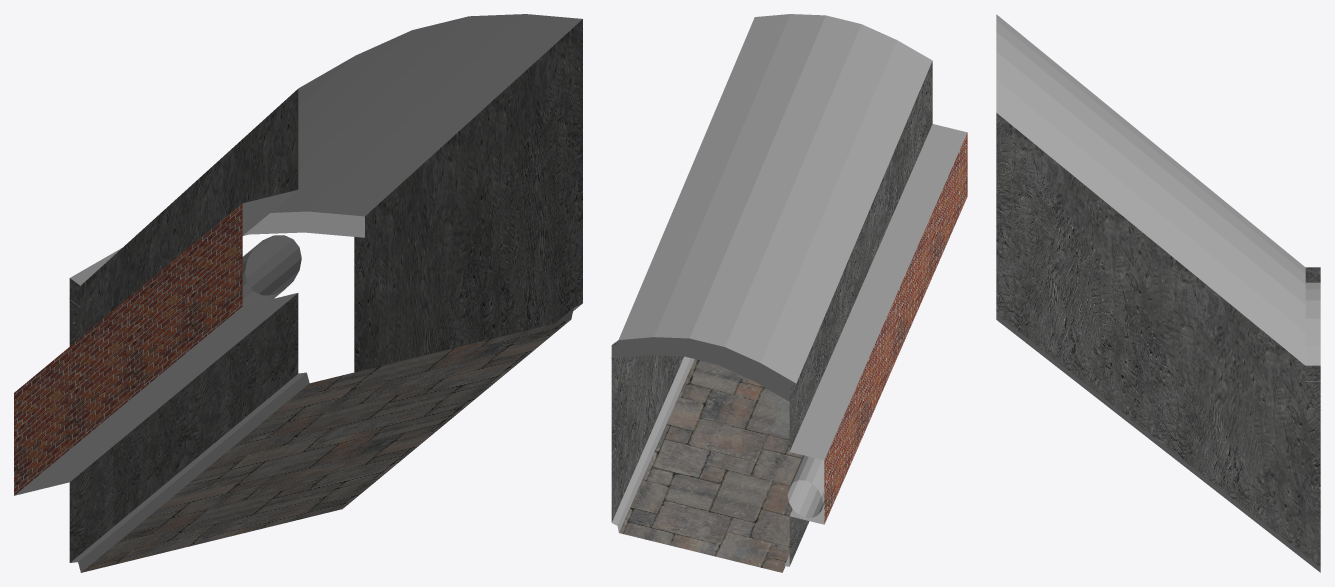
File: korob06.fbx
3 views of the same model, side by side, from view 1: azimuth 30°, elevation 25°; view 2: azimuth 150°, elevation 25°; view 3: azimuth 270°, elevation 25° (orthographic). The views are drawn at different scales.
Parts seen in each view (by area): view 1: polySurface3; view 2: polySurface3; view 3: polySurface3.
Boxes of the visible parts, x1,y1,x2,y2 form: polySurface3: [14, 14, 582, 572]; polySurface3: [611, 14, 967, 572]; polySurface3: [996, 14, 1320, 572].
Bounding box in the file's own units: 11.97 × 23.02 × 13.93.
